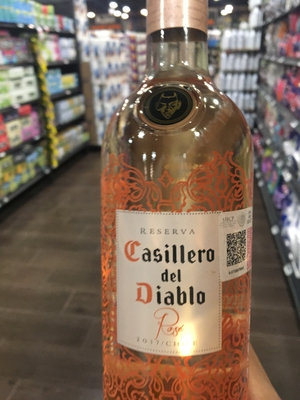casillero del diablo rose: (90, 47, 281, 400)
